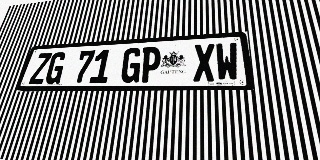1: (89, 49, 112, 83)
7: (72, 50, 96, 84)
G: (120, 48, 142, 83), (44, 52, 68, 84)
P: (139, 46, 161, 83)
W: (215, 42, 240, 81)
X: (193, 43, 216, 82)
Z: (28, 53, 52, 84)
